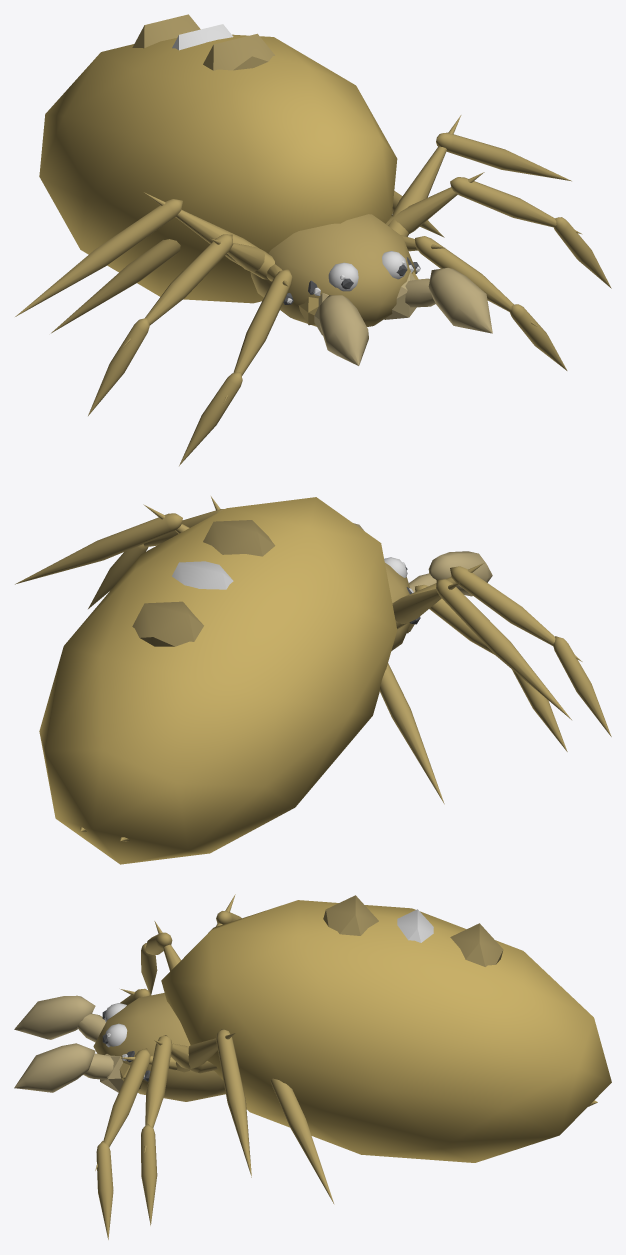
The model's file is cyclosa-bifida.glb.
3 views of the same model, one above another, from view 1: azimuth 30°, elevation 25°; view 2: azimuth 150°, elevation 25°; view 3: azimuth 270°, elevation 25° (orthographic). The views are drawn at different scales.
Visible parts, largest first — view 1: abdomen, cephalothorax, leg2-l0, leg2-r0, leg1-r0, leg3-r0, leg1-l0, leg3-l0, palp-l1, palp-r1, leg0-r0, palp-l0 (+1 smaller); view 2: abdomen, leg2-r0, leg1-r0, leg1-l0, leg0-r0, leg3-r0, leg2-l0, palp-r1, cephalothorax; view 3: abdomen, cephalothorax, leg2-l0, leg3-l0, leg1-l0, palp-l1, palp-r1, leg0-l0, leg2-r0, palp-l0, palp-r0.
Boxes of the visible parts, box(x1,y1,x2,y2) form: abdomen: box(39, 14, 397, 303); cephalothorax: box(250, 214, 418, 335); leg2-l0: box(386, 172, 611, 288); leg2-r0: box(88, 234, 267, 415); leg1-r0: box(15, 192, 274, 316); leg3-r0: box(179, 264, 292, 465); leg1-l0: box(388, 115, 571, 236); leg3-l0: box(400, 235, 567, 370); palp-l1: box(428, 268, 492, 333); palp-r1: box(318, 295, 368, 365); leg0-r0: box(51, 239, 180, 333); palp-l0: box(405, 278, 435, 307); abdomen: box(39, 497, 397, 864); leg2-r0: box(392, 562, 611, 736); leg1-r0: box(392, 579, 571, 719); leg1-l0: box(15, 504, 189, 584); leg0-r0: box(379, 663, 444, 804); leg3-r0: box(415, 585, 567, 751); leg2-l0: box(88, 496, 224, 608); palp-r1: box(428, 551, 492, 596); cephalothorax: box(384, 562, 414, 650); abdomen: box(161, 895, 611, 1162); cephalothorax: box(93, 993, 225, 1101); leg2-l0: box(141, 1035, 202, 1225); leg3-l0: box(95, 1048, 177, 1239); leg1-l0: box(176, 1029, 251, 1177); palp-l1: box(14, 1043, 95, 1092); palp-r1: box(14, 995, 95, 1039); leg0-l0: box(198, 1061, 334, 1204); leg2-r0: box(141, 921, 181, 994); palp-l0: box(83, 1053, 113, 1079); palp-r0: box(77, 1013, 105, 1042).
Bounding box in the file's own units: 0.487 × 0.2326 × 0.5029.
